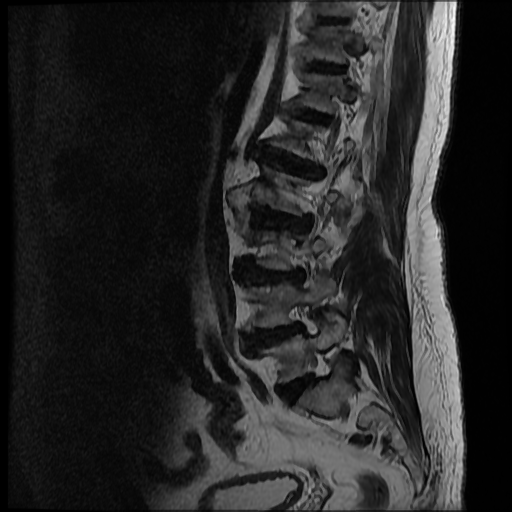RFS0: (280, 297, 330, 346)
